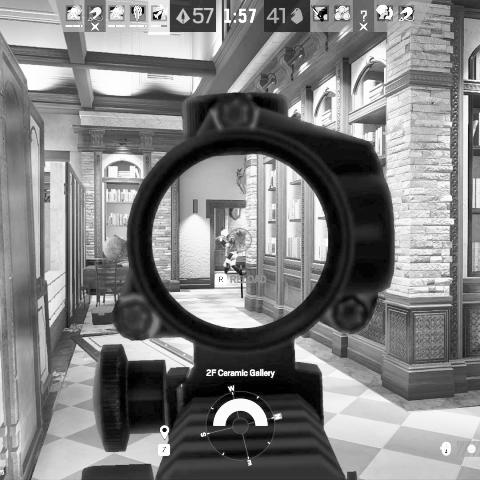Character: (215, 228, 244, 278)
Head: (220, 229, 230, 237)
